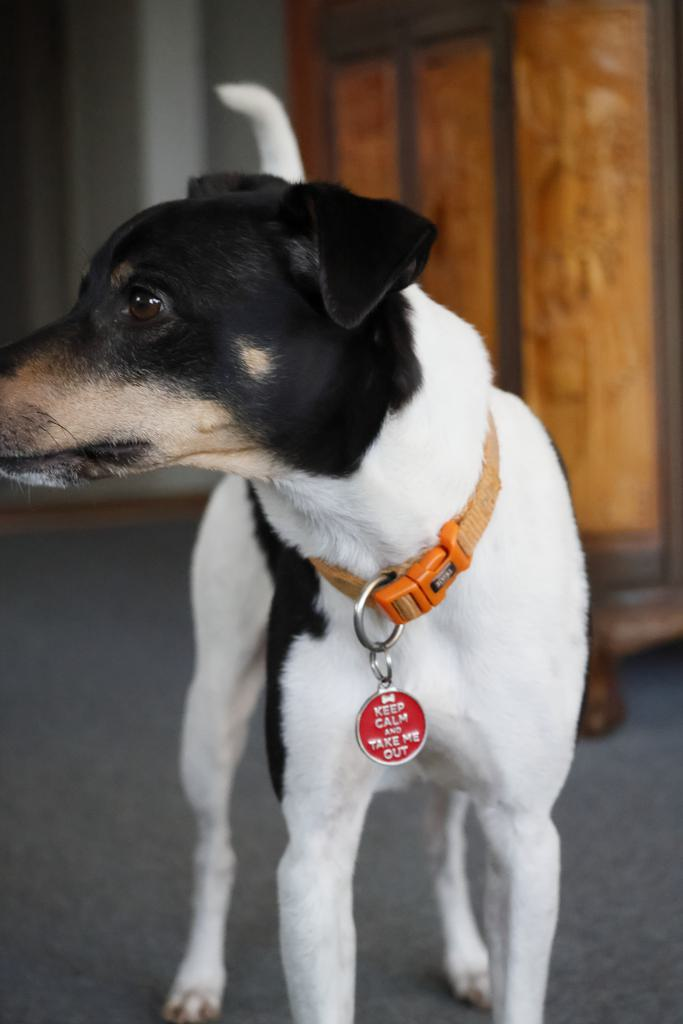Dog: (0, 77, 600, 1024)
